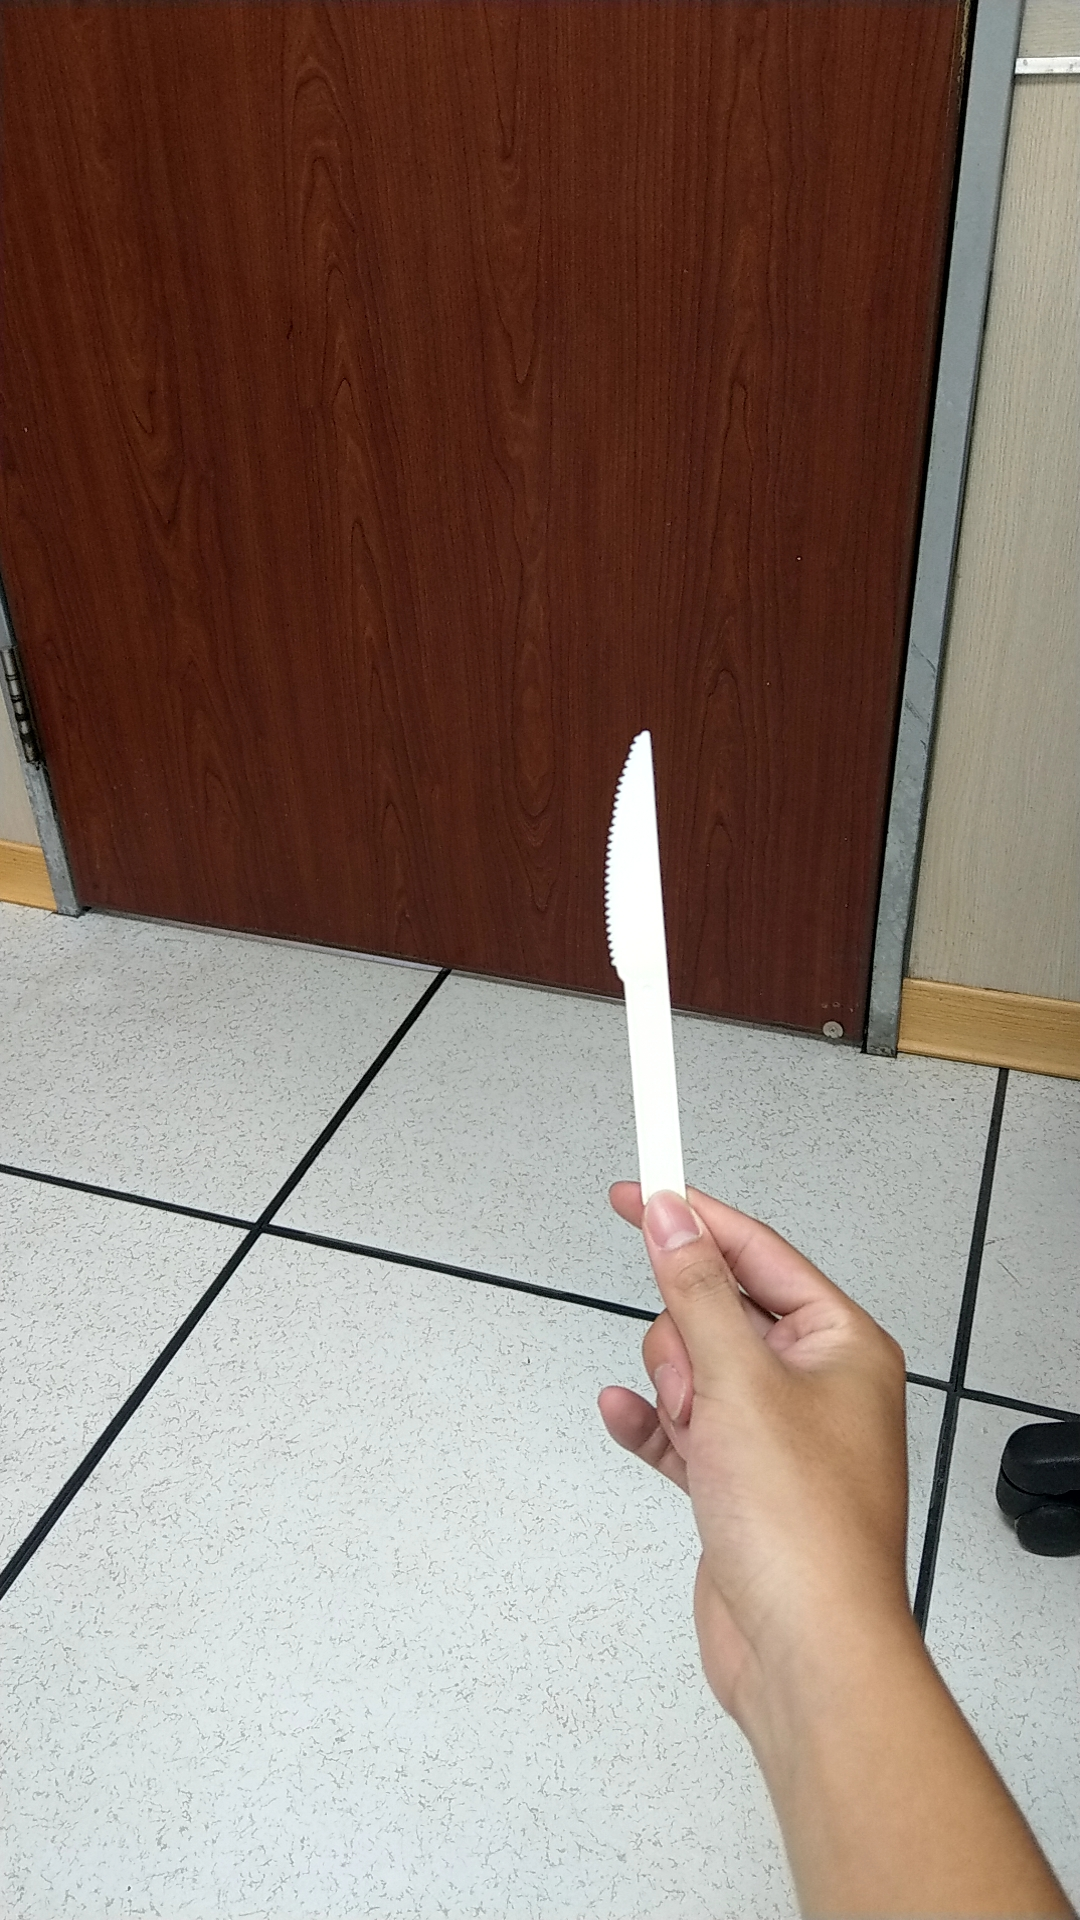knife: (574, 700, 712, 1182)
